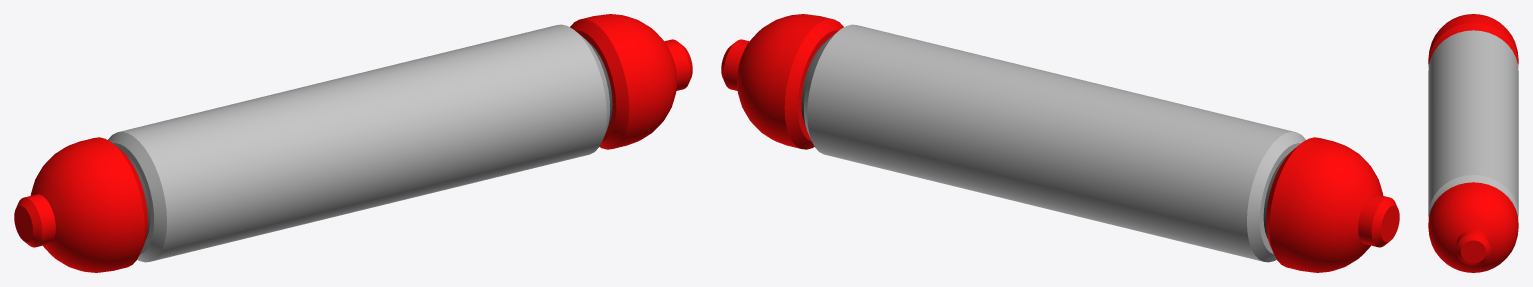
The model's file is Paddle.fbx.
3 renders of one model, left to right at view 1: azimuth 30°, elevation 25°; view 2: azimuth 150°, elevation 25°; view 3: azimuth 270°, elevation 25°, orthographic. The views are drawn at different scales.
Parts seen in each view (by area): view 1: Capsule; view 2: Capsule; view 3: Capsule.
Boxes of the visible parts, box(x1,y1,x2,y2) form: Capsule: box(14, 14, 692, 272); Capsule: box(721, 14, 1399, 272); Capsule: box(1428, 14, 1518, 272).
Size of the model in its own units: 1074 by 189 by 189.
